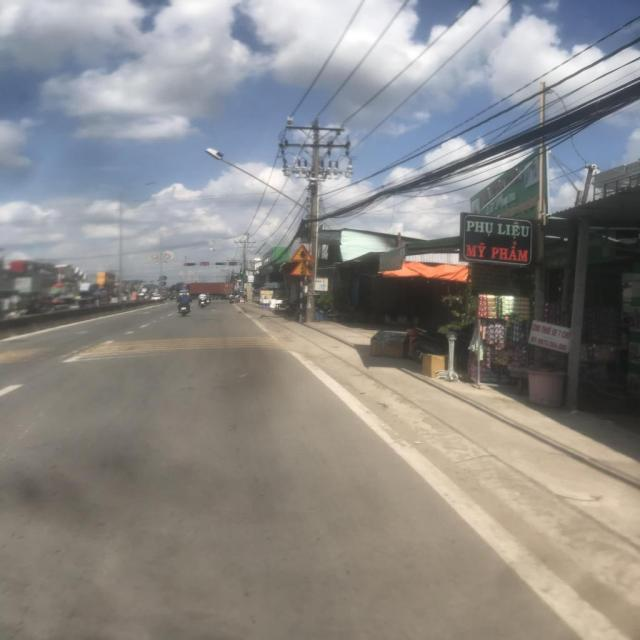giao_nhau_co_tin_hieu_den: (290, 261, 314, 277)
giao_nhau_voi_duong_khong_uu_tien: (287, 244, 316, 263)
